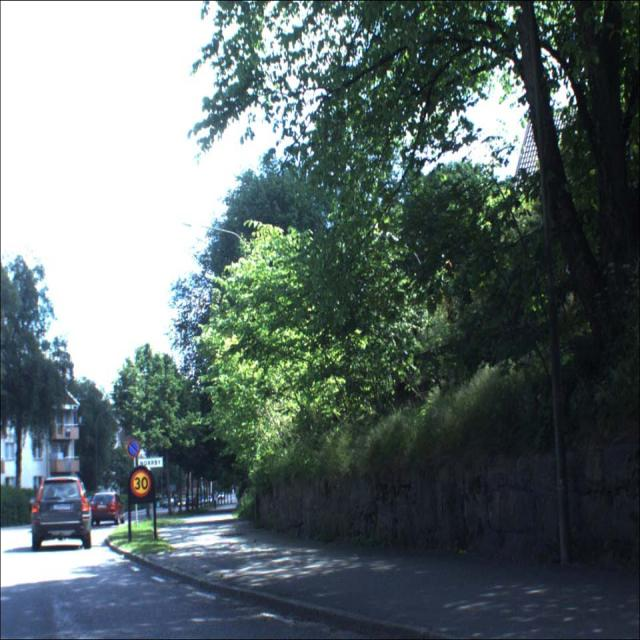30: (130, 471, 151, 497)
parkyasak: (126, 439, 140, 458)
